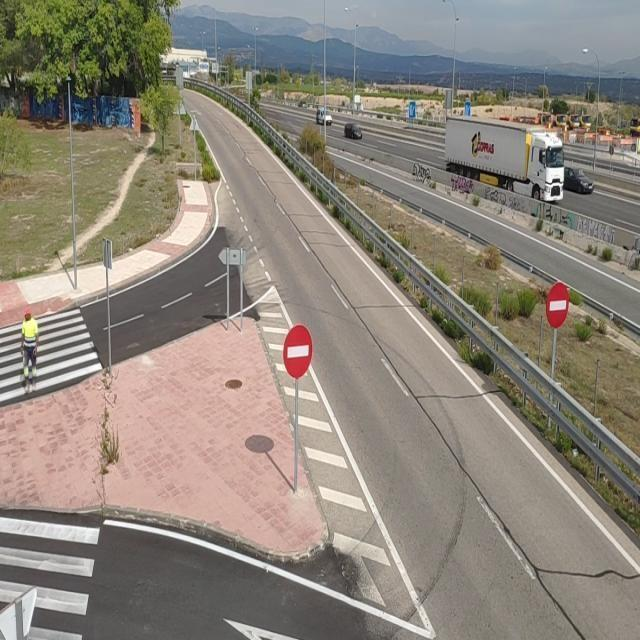Car: (444, 116, 564, 202), (564, 164, 594, 196), (319, 107, 334, 127), (347, 125, 362, 142)
